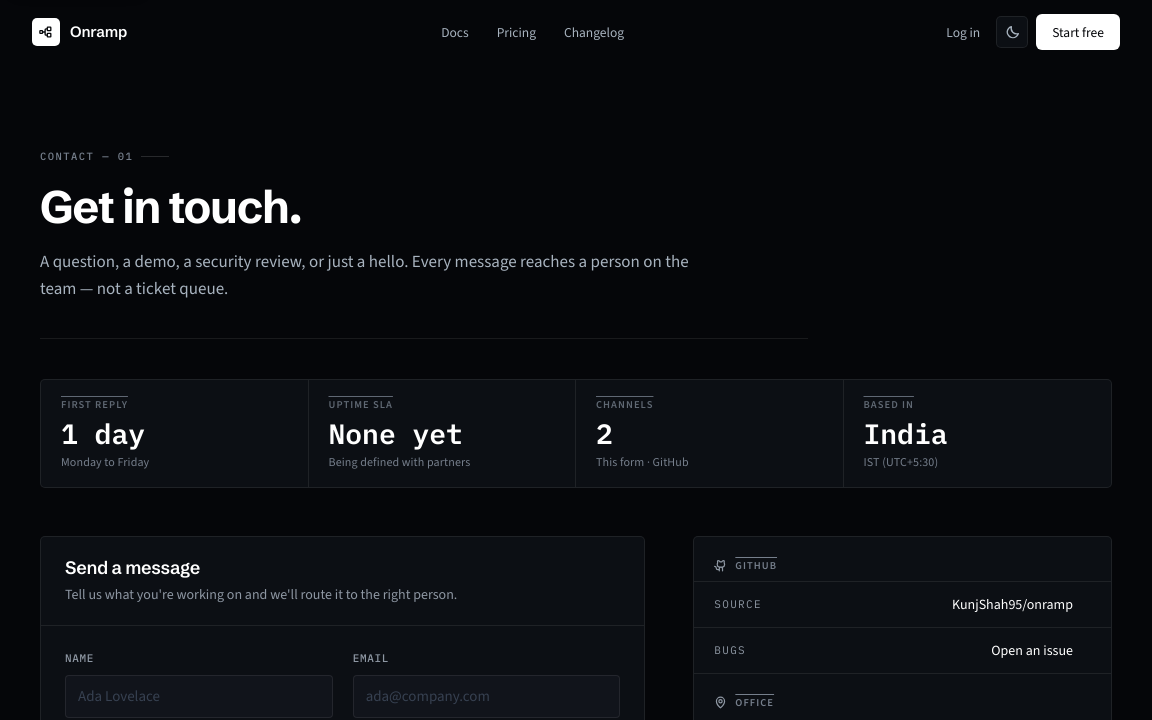
it: ContactPage form › tells the visitor when sending fails
In the field labelled "Name": (199, 696) [65,675,333,718], type "Ada"
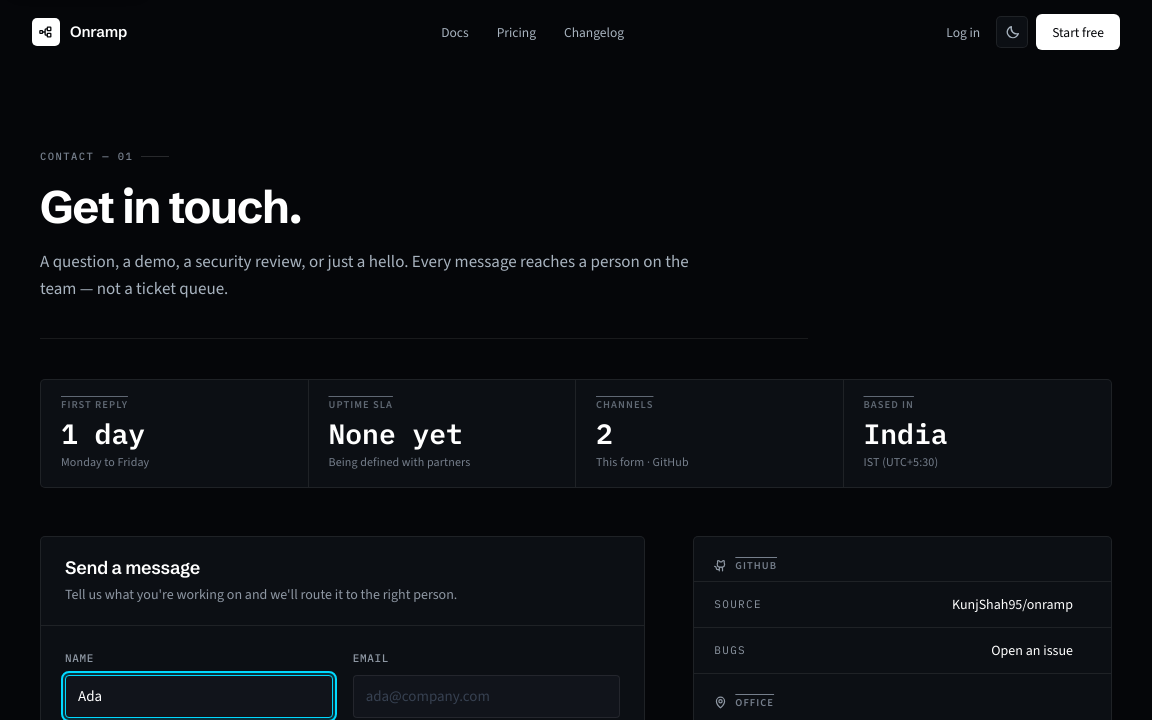
In the field labelled "Email": (487, 696) [353,675,620,718], type "ada@example.com"
(page scrolled)
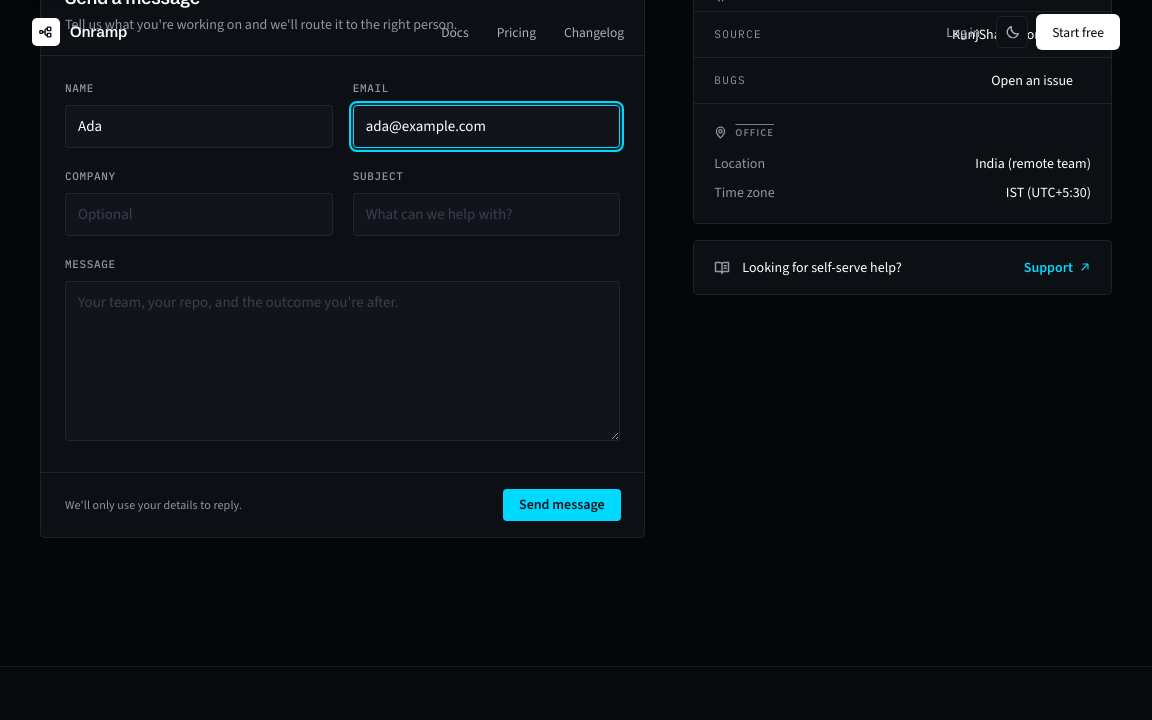
In the text box labelled "Message": (343, 361) [65,281,620,441], type "We hire every quarter."
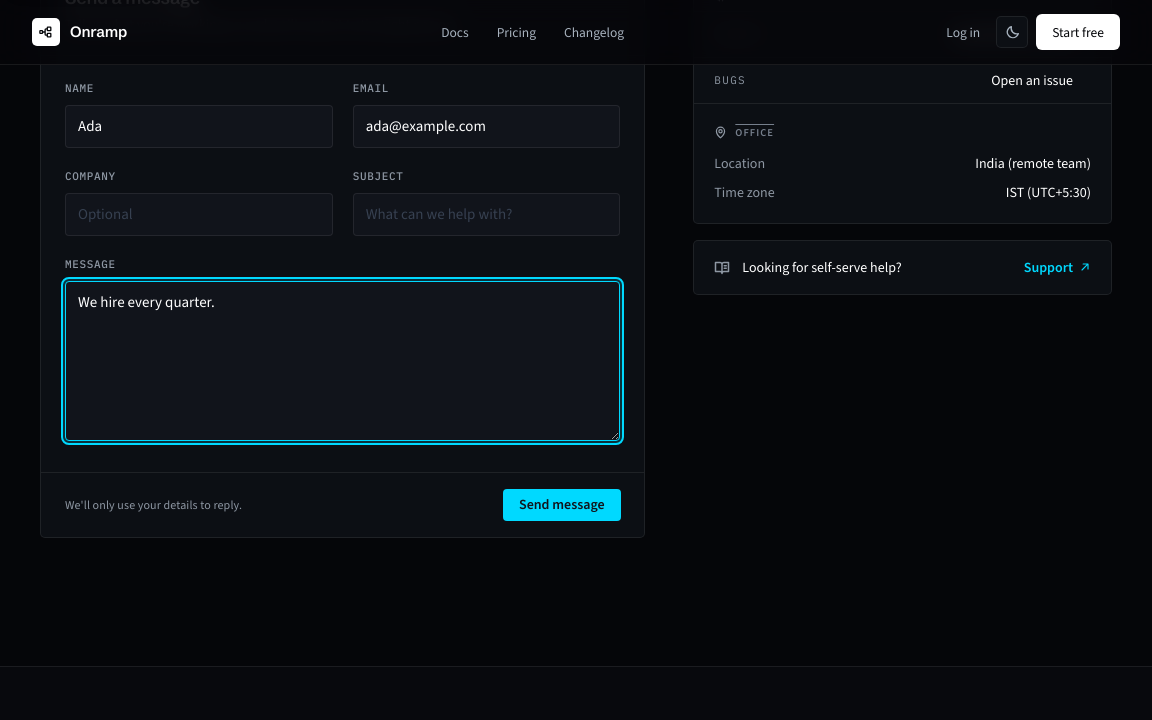
Click the button "Send message": (562, 505) [503,489,620,521]
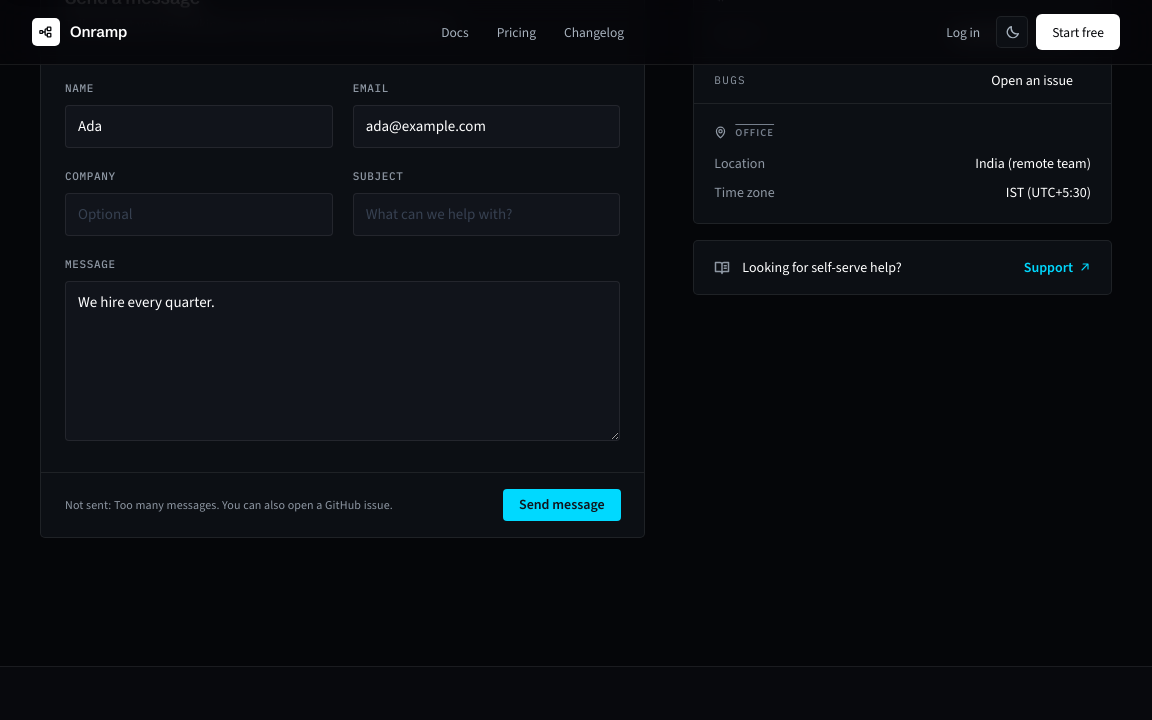
Check: the text "Not sent: Too many messages. You can also open a GitHub issue." is shown, box [65,496,393,513]
